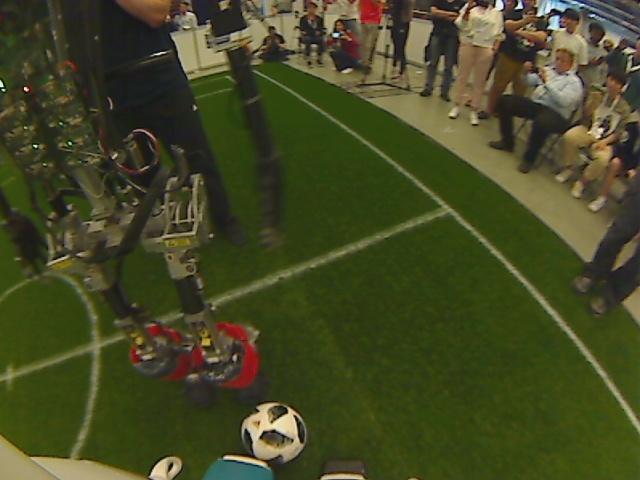ball: (240, 401, 309, 465)
